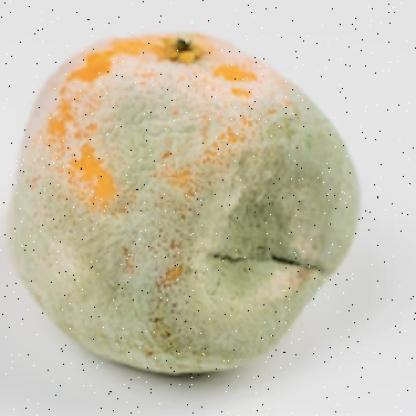rotten: (8, 33, 362, 381)
